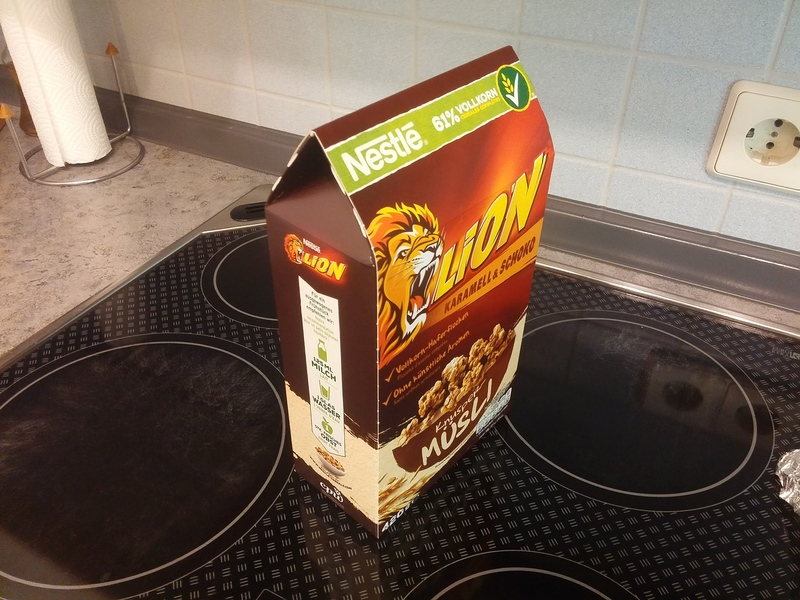cereals: (264, 46, 556, 540)
